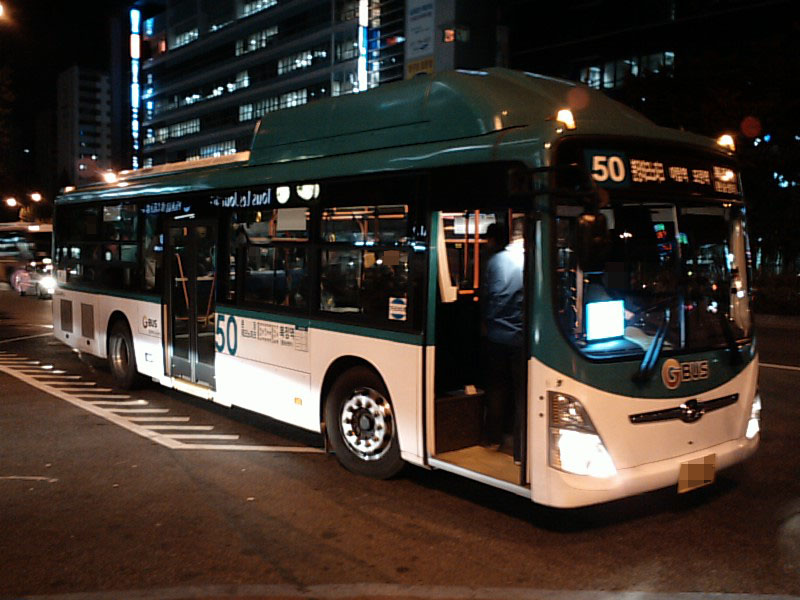bnum: (586, 150, 628, 184)
